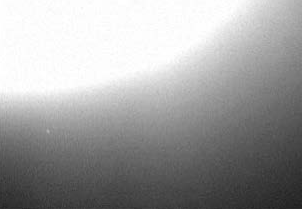Target: (48, 130, 50, 132)
